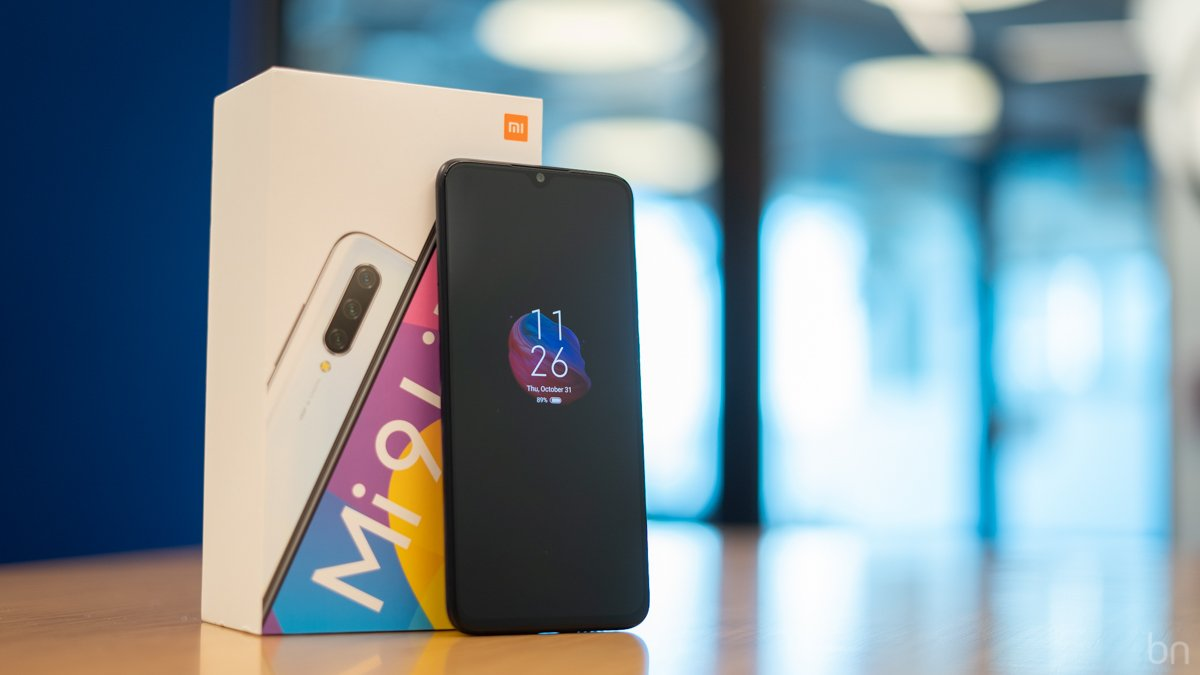Phone: (430, 150, 657, 637)
